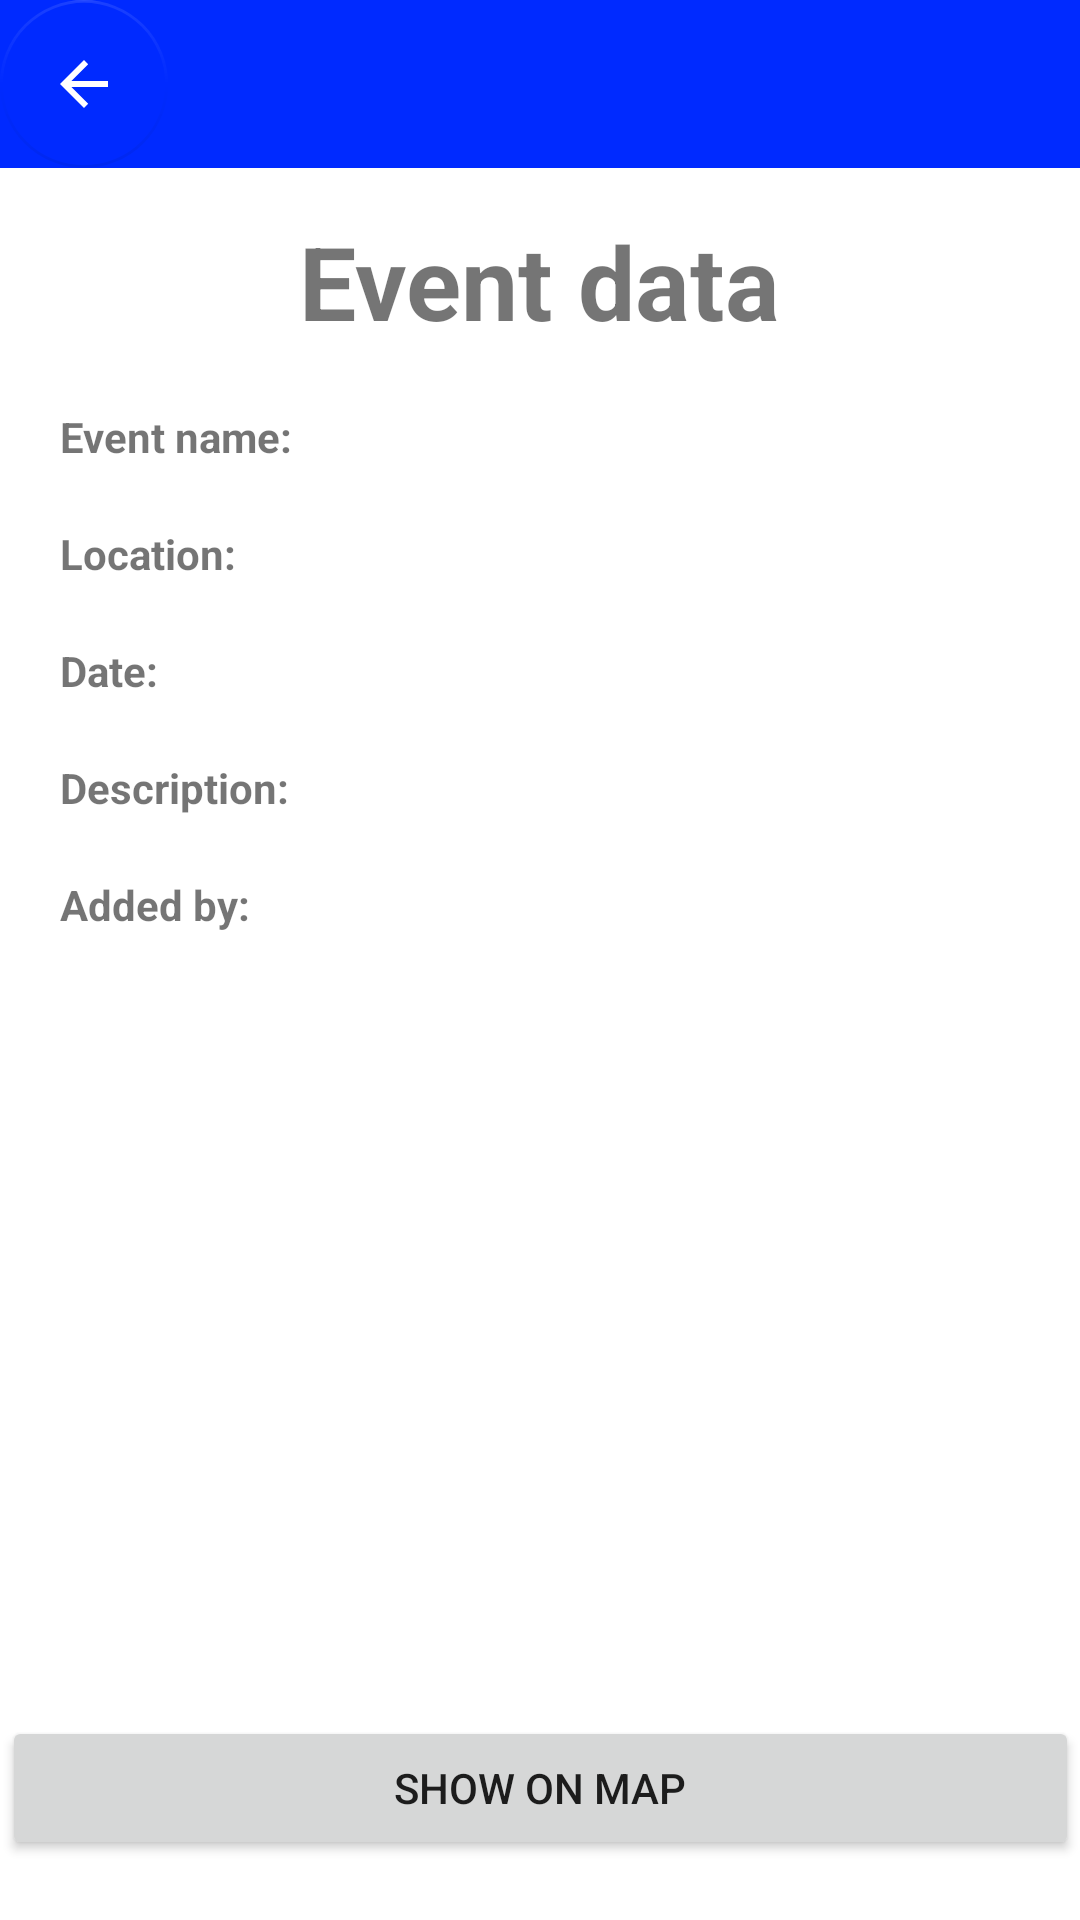

Icon click points for this 1080×1920 phone screenshot, format [x,y]:
back: [84,54]
